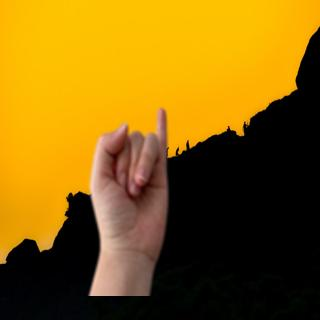Fine: (83, 100, 184, 262)
